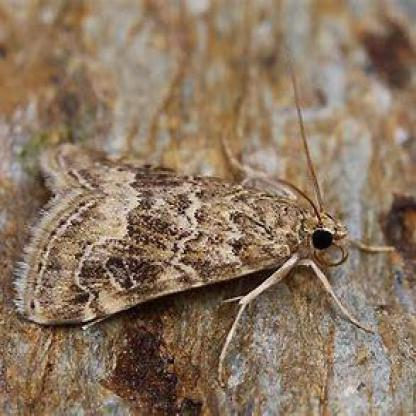Hellula undalis: (10, 36, 404, 393)
